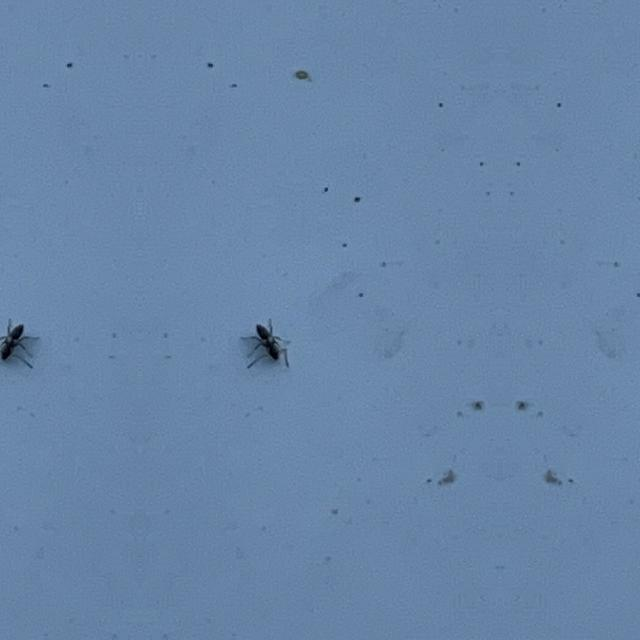Tapinoma: (248, 316, 286, 374), (0, 314, 28, 373)
